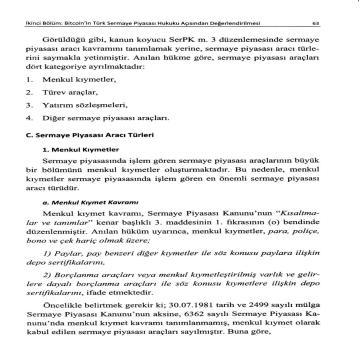header: (24, 18, 264, 26)
